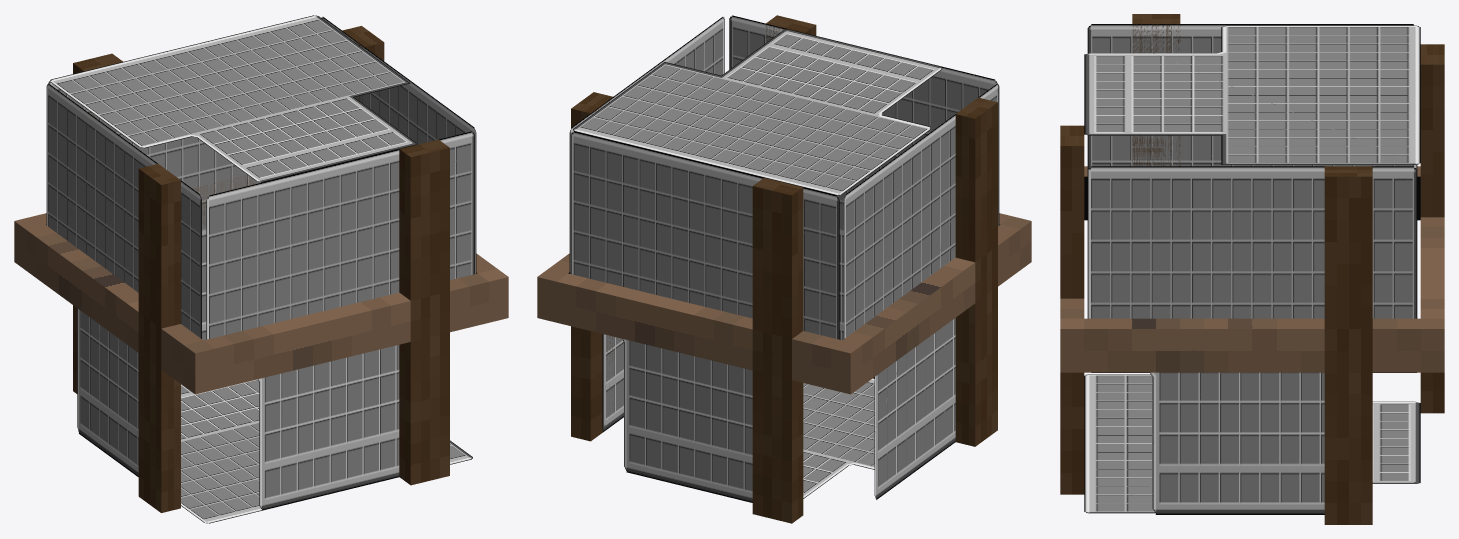
File: storage.obj
3 renders of one model, left to right at view 1: azimuth 30°, elevation 25°; view 2: azimuth 150°, elevation 25°; view 3: azimuth 270°, elevation 25°, orthographic. The views are drawn at different scales.
Parts seen in each view (by area): view 1: base, pillar, small storage; view 2: base, pillar, small storage; view 3: base, pillar, small storage.
Boxes of the visible parts, box(x1,y1,x2,y2) form: base: box(46, 15, 476, 523); pillar: box(73, 26, 449, 512); small storage: box(14, 175, 508, 394); base: box(569, 15, 999, 502); pillar: box(571, 15, 997, 523); small storage: box(537, 188, 1031, 394); base: box(1084, 24, 1420, 514); pillar: box(1060, 14, 1444, 524); small storage: box(1060, 166, 1444, 372).
Size of the model in its own units: 1 by 1 by 1.
